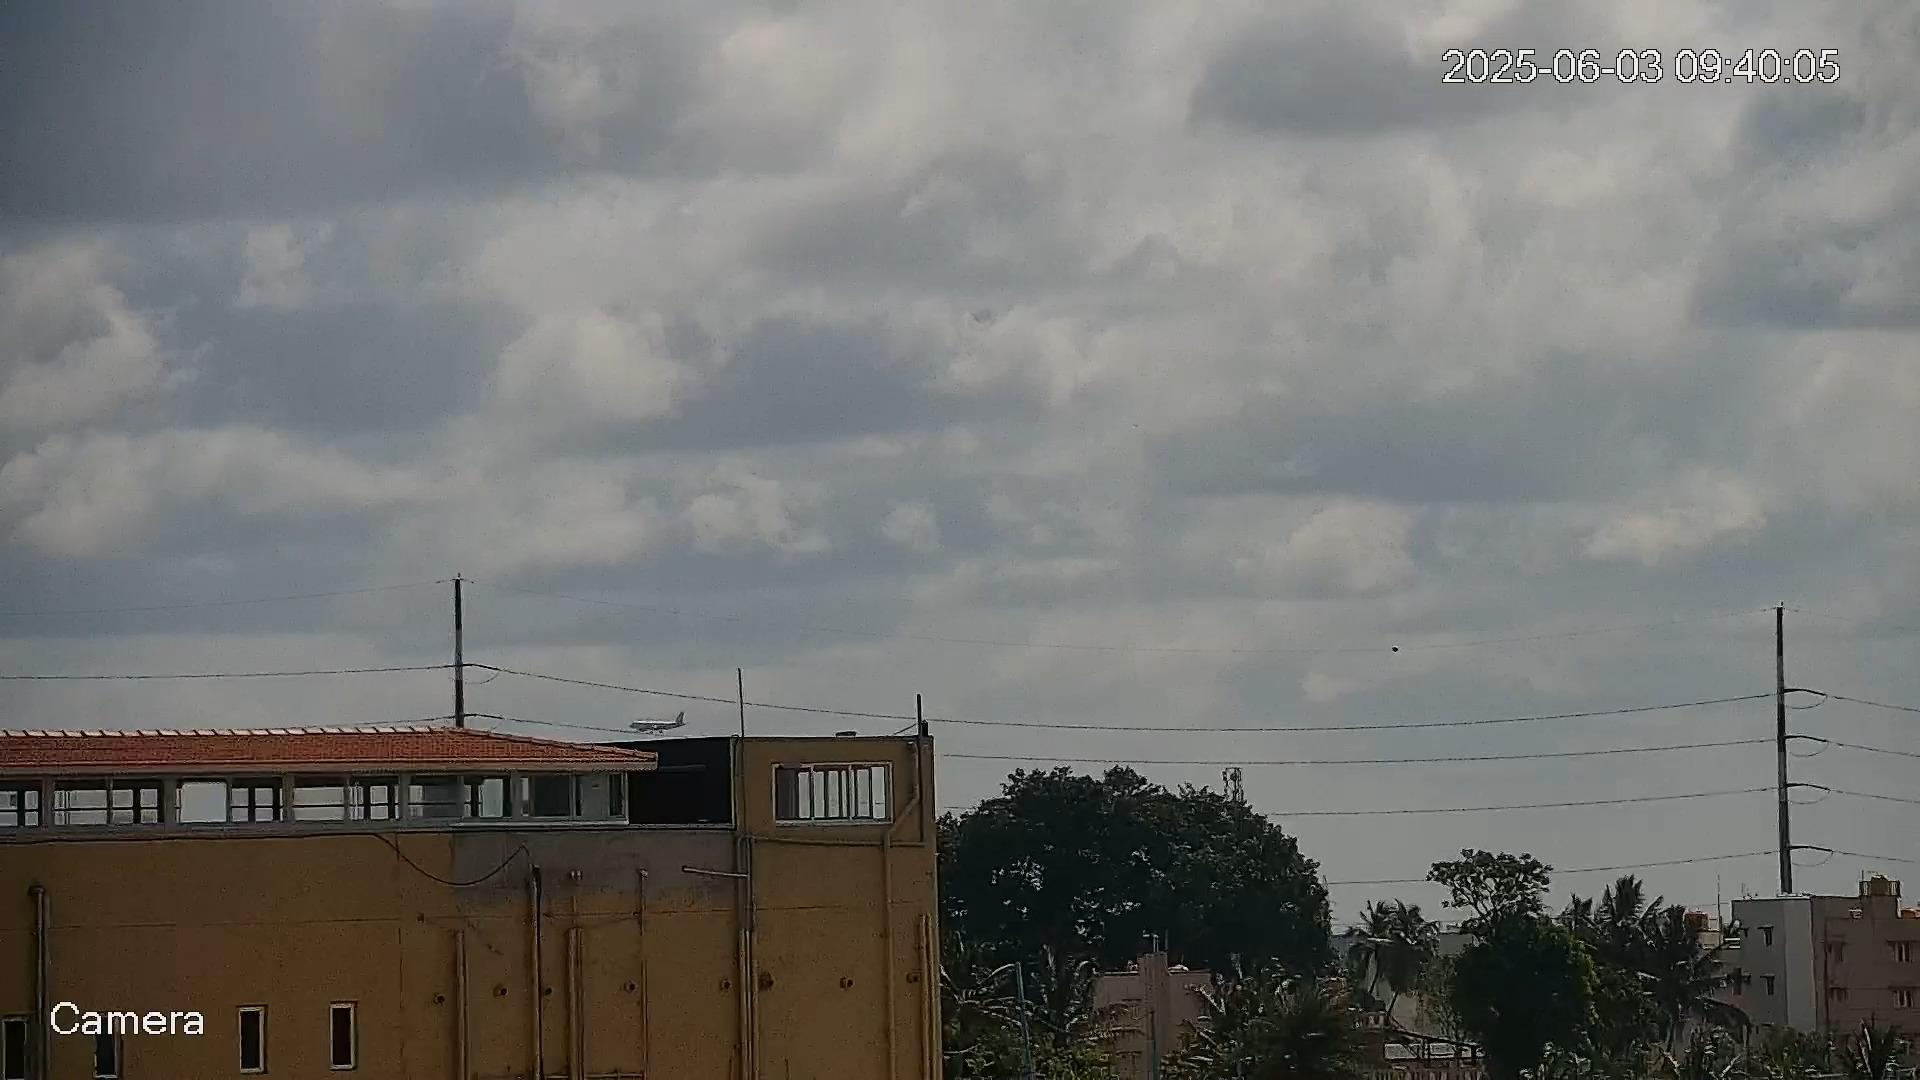Aircraft: (626, 711, 687, 735)
